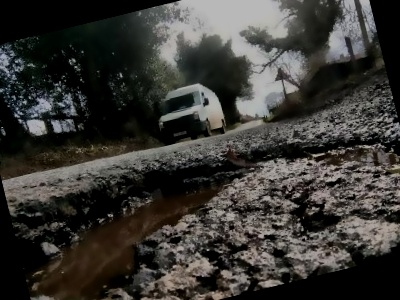pothole: (8, 108, 400, 300)
